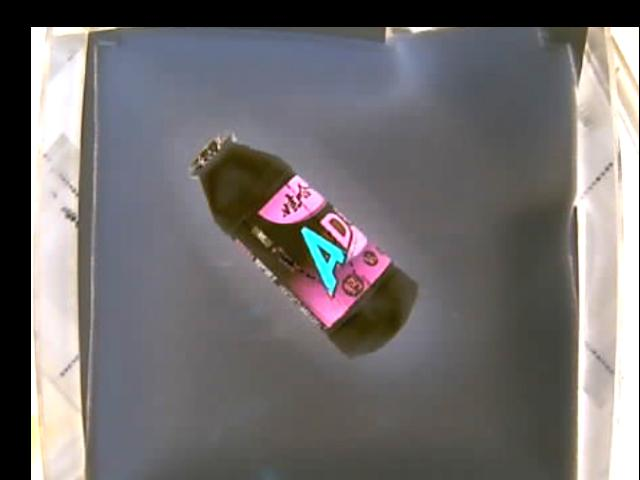Bottle: (191, 131, 417, 359)
